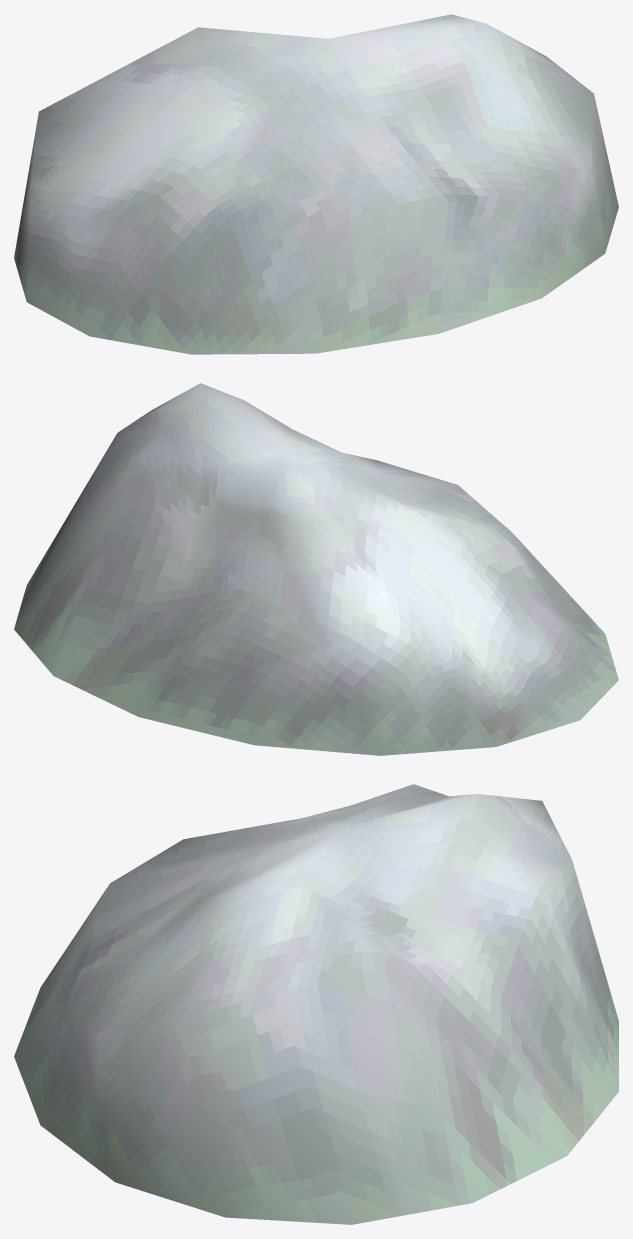
The model's file is INST_TROLLHOLE_STONEA.fbx.
3 views of the same model, one above another, from view 1: azimuth 30°, elevation 25°; view 2: azimuth 150°, elevation 25°; view 3: azimuth 270°, elevation 25° (orthographic). The views are drawn at different scales.
Visible parts, largest first — view 1: INST_TROLLHOLE_STONEA; view 2: INST_TROLLHOLE_STONEA; view 3: INST_TROLLHOLE_STONEA.
Boxes of the visible parts, bbox=[...] form: INST_TROLLHOLE_STONEA: bbox=[14, 14, 618, 354]; INST_TROLLHOLE_STONEA: bbox=[14, 383, 618, 755]; INST_TROLLHOLE_STONEA: bbox=[14, 784, 618, 1224].
Size of the model in its own units: 16425 by 5826 by 12469.
Materials: 1 (1 with a texture image).
